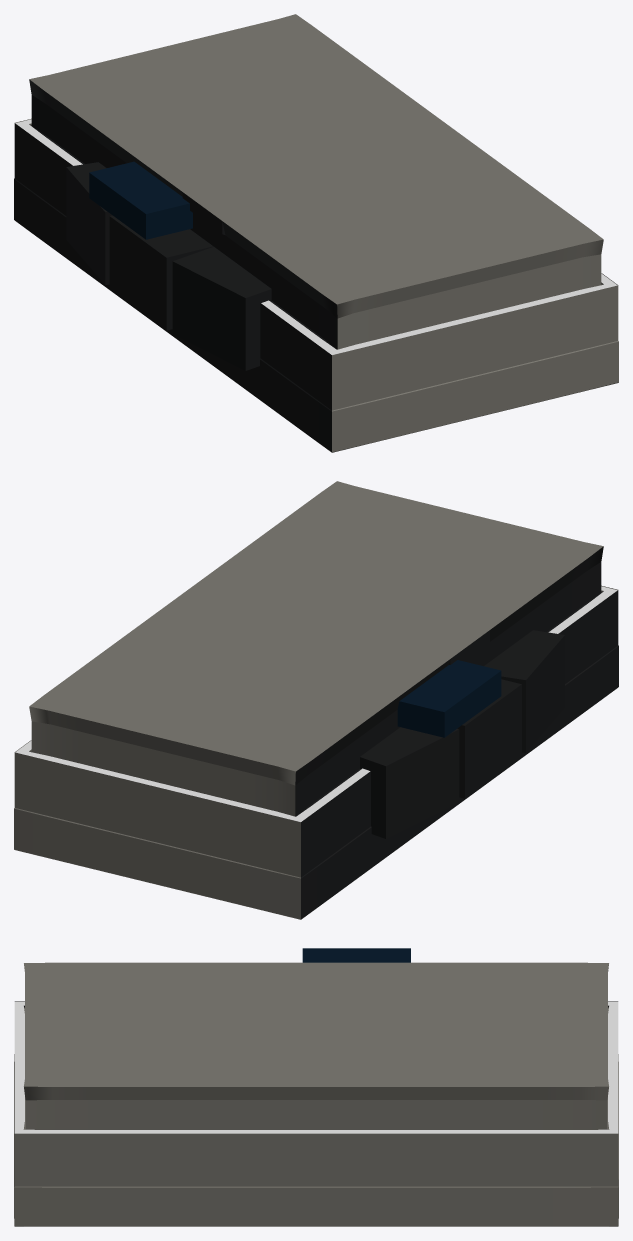
File: MissionControl.fbx
3 views of the same model, one above another, from view 1: azimuth 30°, elevation 25°; view 2: azimuth 150°, elevation 25°; view 3: azimuth 270°, elevation 25° (orthographic). The views are drawn at different scales.
Parts seen in each view (by area): view 1: room, miConSign, lights; view 2: room, miConSign, lights; view 3: room, lights, miConSign.
Boxes of the visible parts, box(x1,y1,x2,y2) form: room: box(14, 14, 618, 452); miConSign: box(89, 161, 192, 239); lights: box(15, 119, 617, 354); room: box(14, 481, 618, 919); miConSign: box(397, 660, 501, 737); lights: box(15, 586, 617, 821); room: box(14, 962, 618, 1226); lights: box(14, 1001, 618, 1133); miConSign: box(302, 948, 410, 962).
Size of the model in its own units: 169 by 71.8 by 290.
